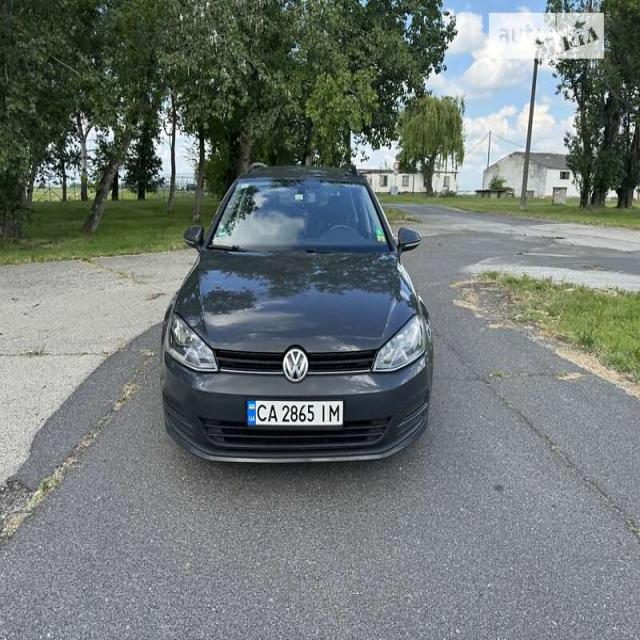plate: (245, 390, 348, 438)
